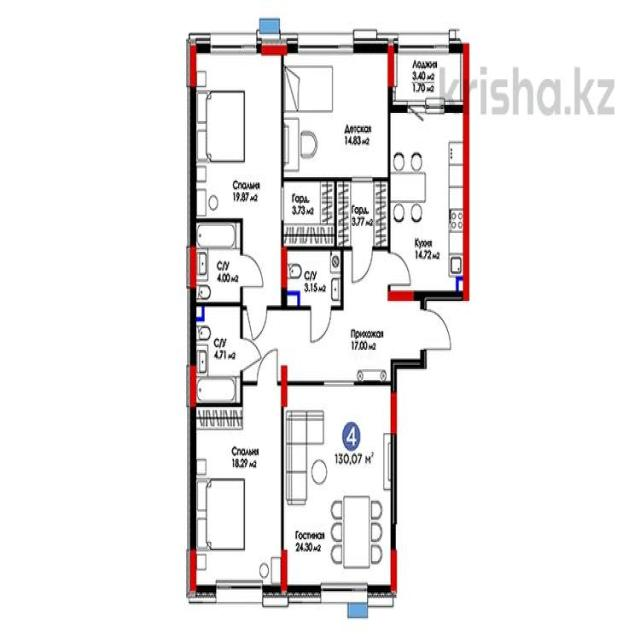balcony: (389, 44, 464, 108)
bathroom: (193, 306, 240, 406), (194, 222, 242, 302), (286, 250, 342, 308)
hallway: (240, 306, 397, 383)
kitchen: (389, 110, 469, 300)
living_room: (283, 384, 394, 602), (194, 404, 281, 592), (194, 44, 284, 222), (284, 48, 389, 180)
other: (335, 180, 391, 250), (281, 182, 336, 248)
